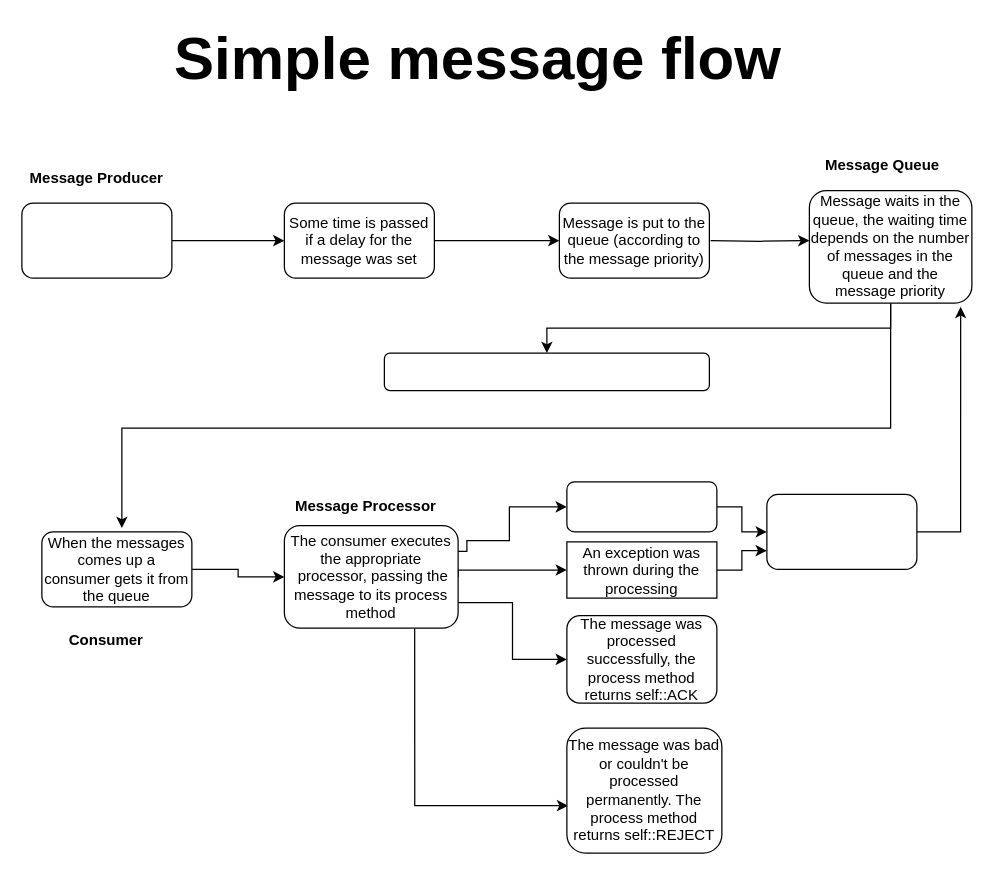
The diagram is 994 pixels wide and 875 high, and some of its shapes have lost their labels. The centre of each missing label's shape, as x and y in pixels:
A Message Producer sends a message: (x=96, y=240)
The message expired (if an expiration was set) and was removed from the queue: (x=546, y=371)
The message is put to the queue again: (x=841, y=531)
The process method returns self::REQUEUE: (x=641, y=506)
